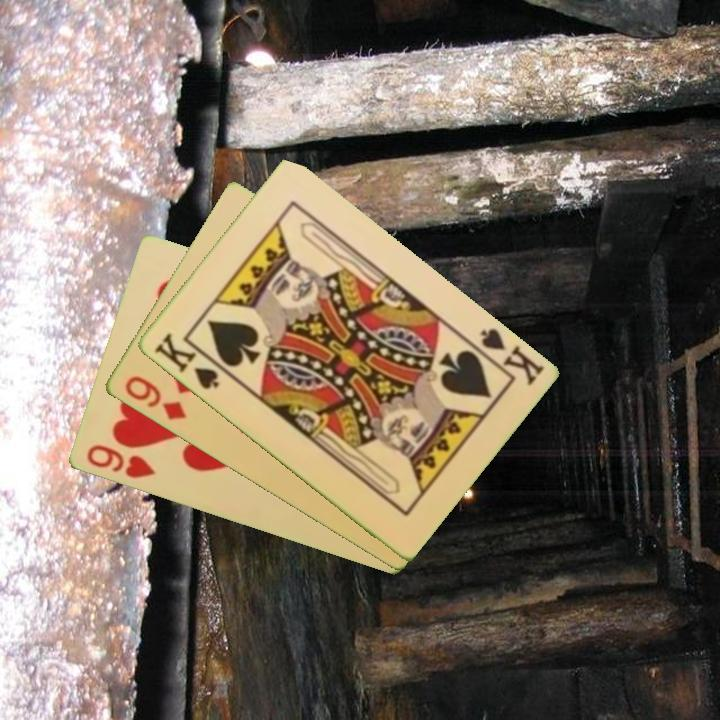9d: (120, 372, 189, 423)
9h: (82, 441, 159, 482)
Ks: (465, 324, 547, 389), (150, 329, 221, 393)
